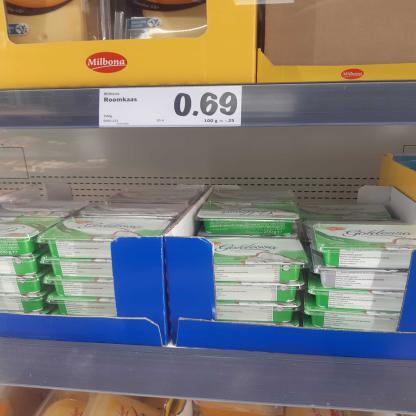prtg: (100, 86, 243, 128)
